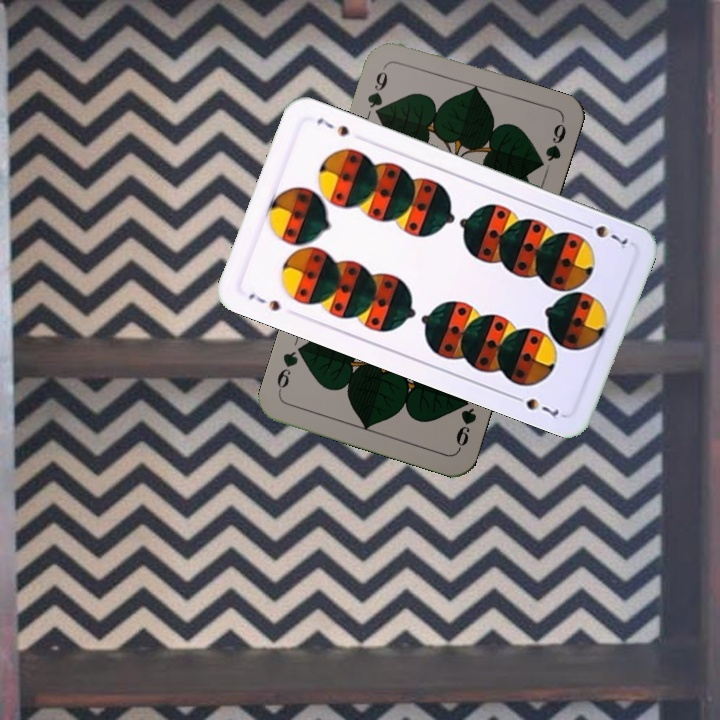G9: (452, 392, 479, 453), (363, 67, 390, 120)
S7: (577, 218, 631, 252), (244, 289, 283, 314)
